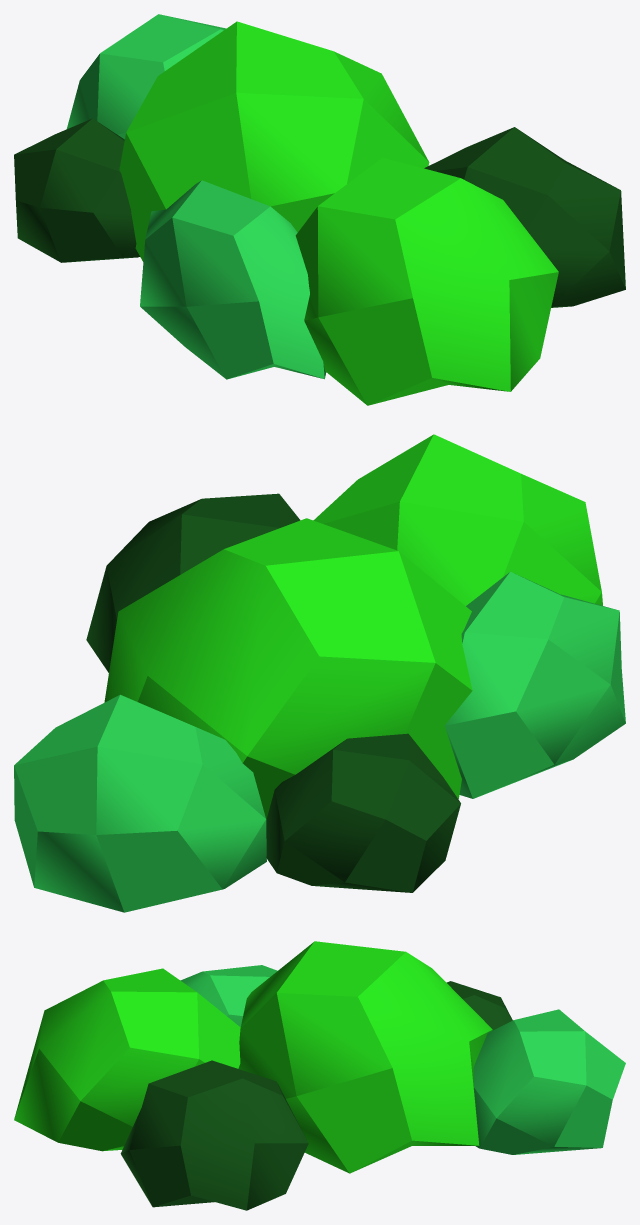
File: WildBush_01.FBX
3 renders of one model, top to bottom at view 1: azimuth 30°, elevation 25°; view 2: azimuth 150°, elevation 25°; view 3: azimuth 270°, elevation 25°, orthographic. The views are drawn at different scales.
Parts seen in each view (by area): view 1: WildBush_01; view 2: WildBush_01; view 3: WildBush_01.
Part boxes in pixels (box(x1,y1,x2,y2)): WildBush_01: box(14, 14, 625, 405); WildBush_01: box(14, 434, 625, 912); WildBush_01: box(14, 941, 625, 1210).
Bounding box in the file's own units: 6.19 × 2.8 × 9.37.
